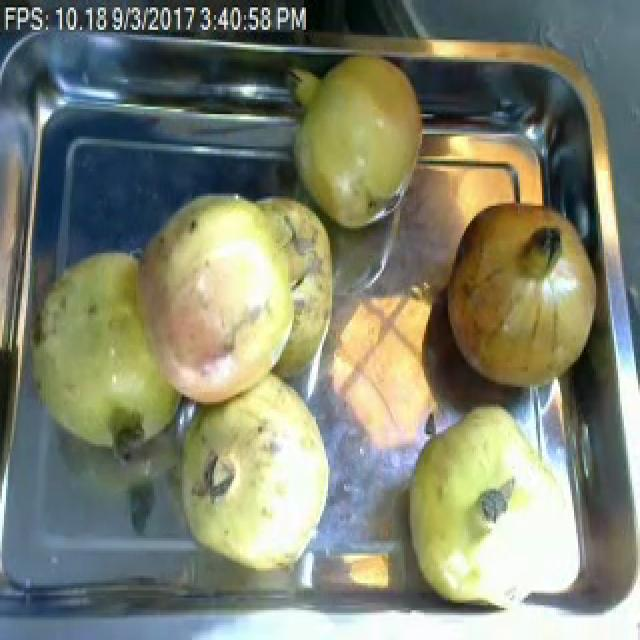fruit: (116, 176, 344, 429), (388, 387, 570, 630), (160, 365, 346, 588), (434, 191, 606, 404), (284, 47, 434, 243)
